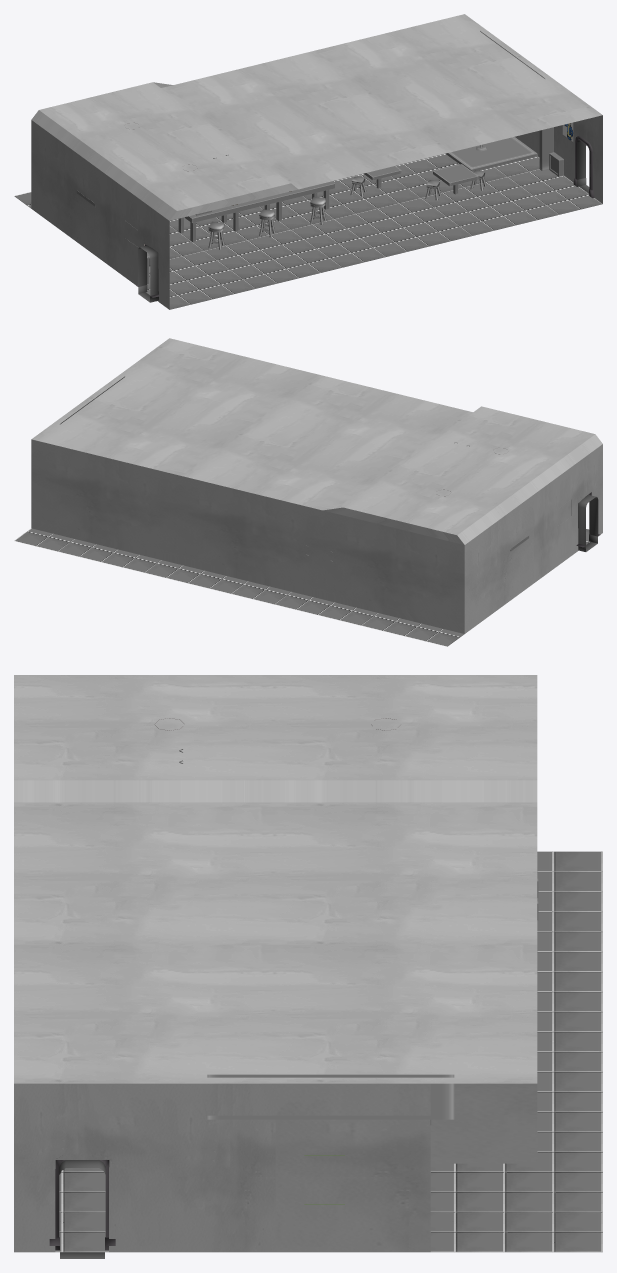
Rendered from MSH_Bar_room_L1_R3.fbx.
3 renders of one model, top to bottom at view 1: azimuth 30°, elevation 25°; view 2: azimuth 150°, elevation 25°; view 3: azimuth 270°, elevation 25°, orthographic. The views are drawn at different scales.
Parts seen in each view (by area): view 1: MSH_Bar_room_L1_R3_Walls, MSH_Bar_room_L1_R3 1, MSH_Bar_room_L1_R3_lights; view 2: MSH_Bar_room_L1_R3_Walls, MSH_Bar_room_L1_R3_lights; view 3: MSH_Bar_room_L1_R3_Walls, MSH_Bar_room_L1_R3 1.
Part boxes in pixels (x1,y1,x2,y2): MSH_Bar_room_L1_R3_Walls: (14, 14, 602, 309); MSH_Bar_room_L1_R3 1: (76, 31, 573, 283); MSH_Bar_room_L1_R3_lights: (138, 140, 589, 302); MSH_Bar_room_L1_R3_Walls: (14, 338, 602, 646); MSH_Bar_room_L1_R3_lights: (578, 494, 598, 551); MSH_Bar_room_L1_R3_Walls: (14, 675, 602, 1252); MSH_Bar_room_L1_R3 1: (154, 718, 538, 1204).
Size of the model in its own units: 30.91 by 6.45 by 18.58.
